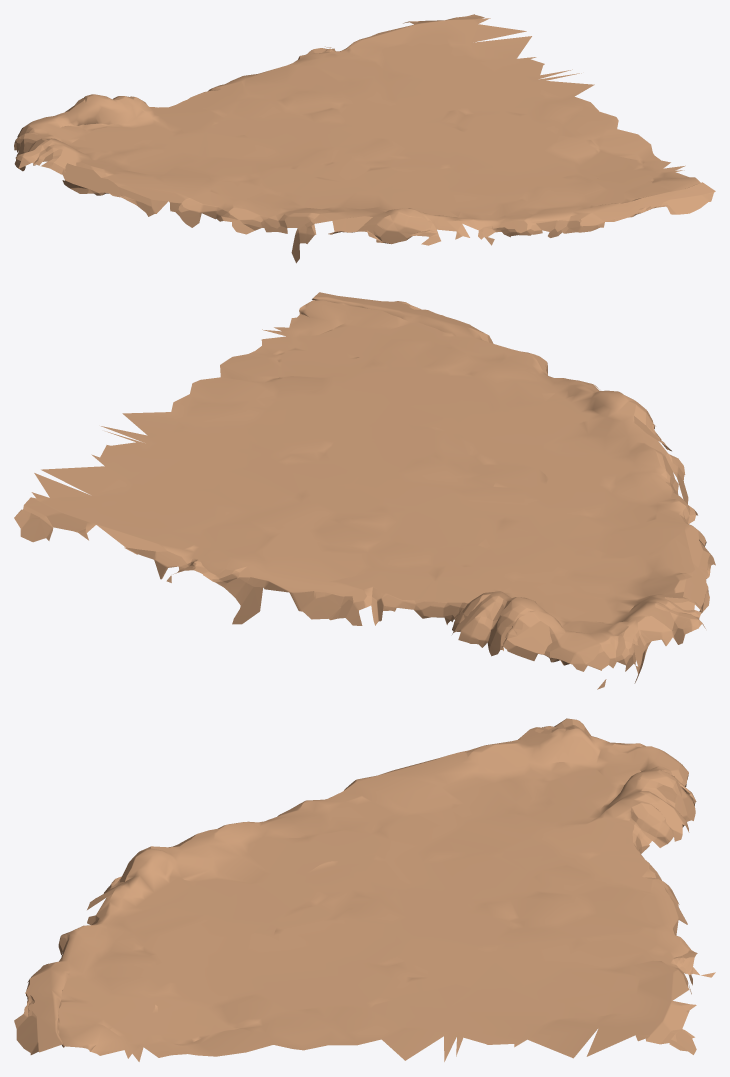
File: SandstoneBig_Mesh_2_006LODs.fbx
The picture shows the model from 3 angles, top to bottom: view 1: azimuth 30°, elevation 25°; view 2: azimuth 150°, elevation 25°; view 3: azimuth 270°, elevation 25°; orthographic projection. The views are drawn at different scales.
Parts seen in each view (by area): view 1: Mesh_2.006_LOD0; view 2: Mesh_2.006_LOD0; view 3: Mesh_2.006_LOD0.
Boxes of the visible parts, x1,y1,x2,y2 form: Mesh_2.006_LOD0: (14, 14, 715, 263); Mesh_2.006_LOD0: (14, 292, 715, 689); Mesh_2.006_LOD0: (14, 718, 715, 1061).
Size of what is drawn, in the model's own units: 11102 by 1180 by 9753.
